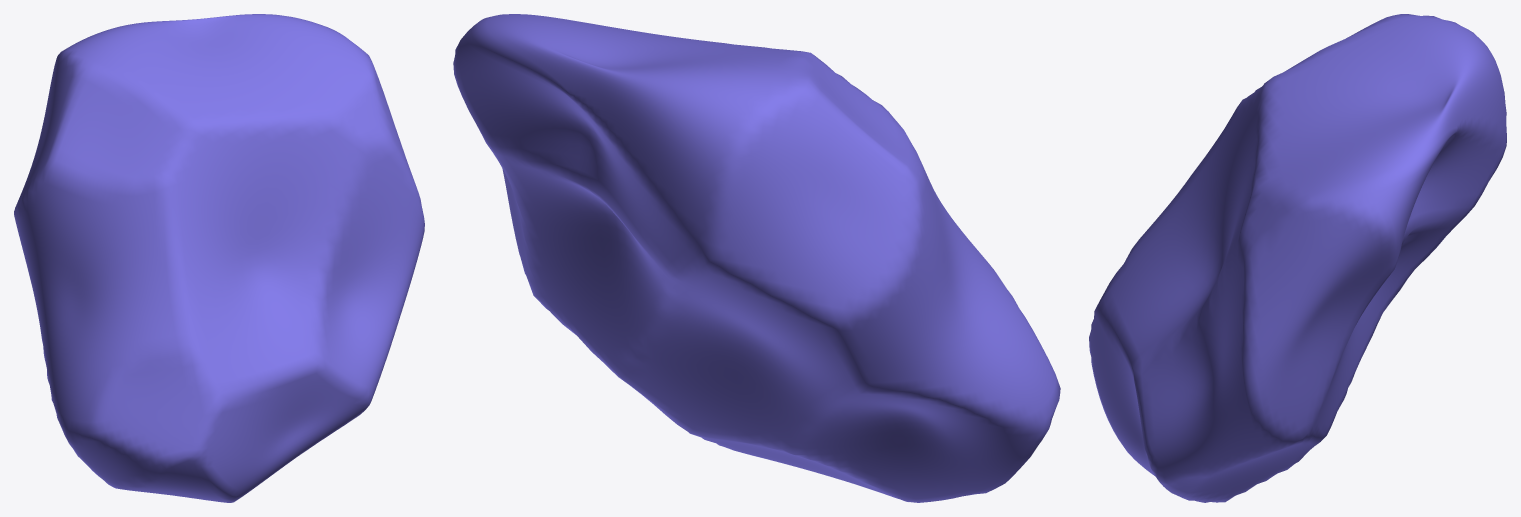
The model's file is Синий камень  (1).fbx.
The picture shows the model from 3 angles, left to right: view 1: azimuth 30°, elevation 25°; view 2: azimuth 150°, elevation 25°; view 3: azimuth 270°, elevation 25°; orthographic projection. The views are drawn at different scales.
Visible parts, largest first — view 1: Cube; view 2: Cube; view 3: Cube.
Boxes of the visible parts, <box> form: Cube: <box>14,14,424,502</box>; Cube: <box>453,14,1060,502</box>; Cube: <box>1089,14,1506,502</box>.
Bounding box in the file's own units: 258 × 250 × 212.
